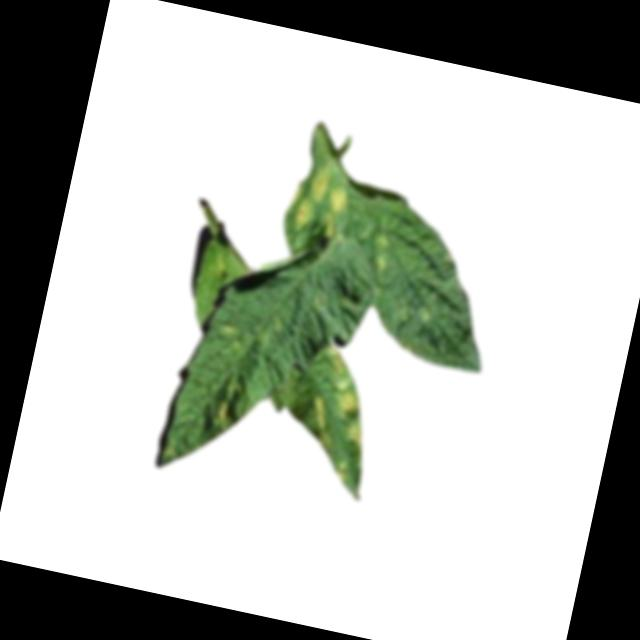Leaf_Mold: (295, 342, 382, 488), (283, 159, 355, 244), (205, 392, 242, 437)
